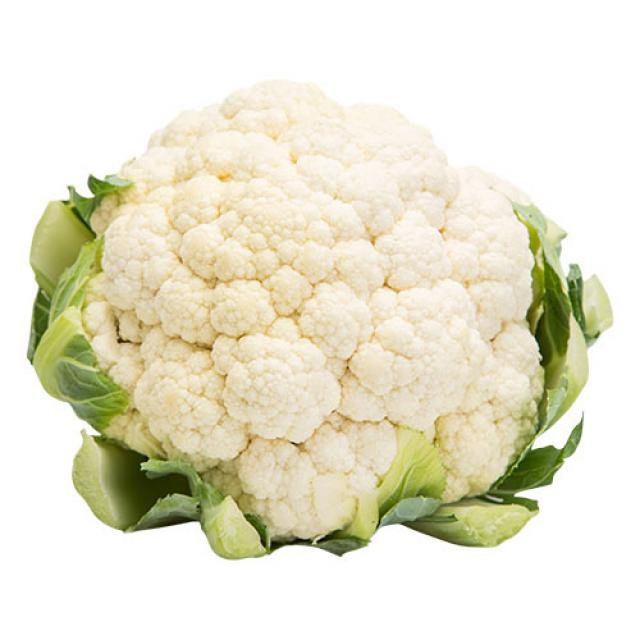Cauliflower head: (24, 0, 640, 612)
